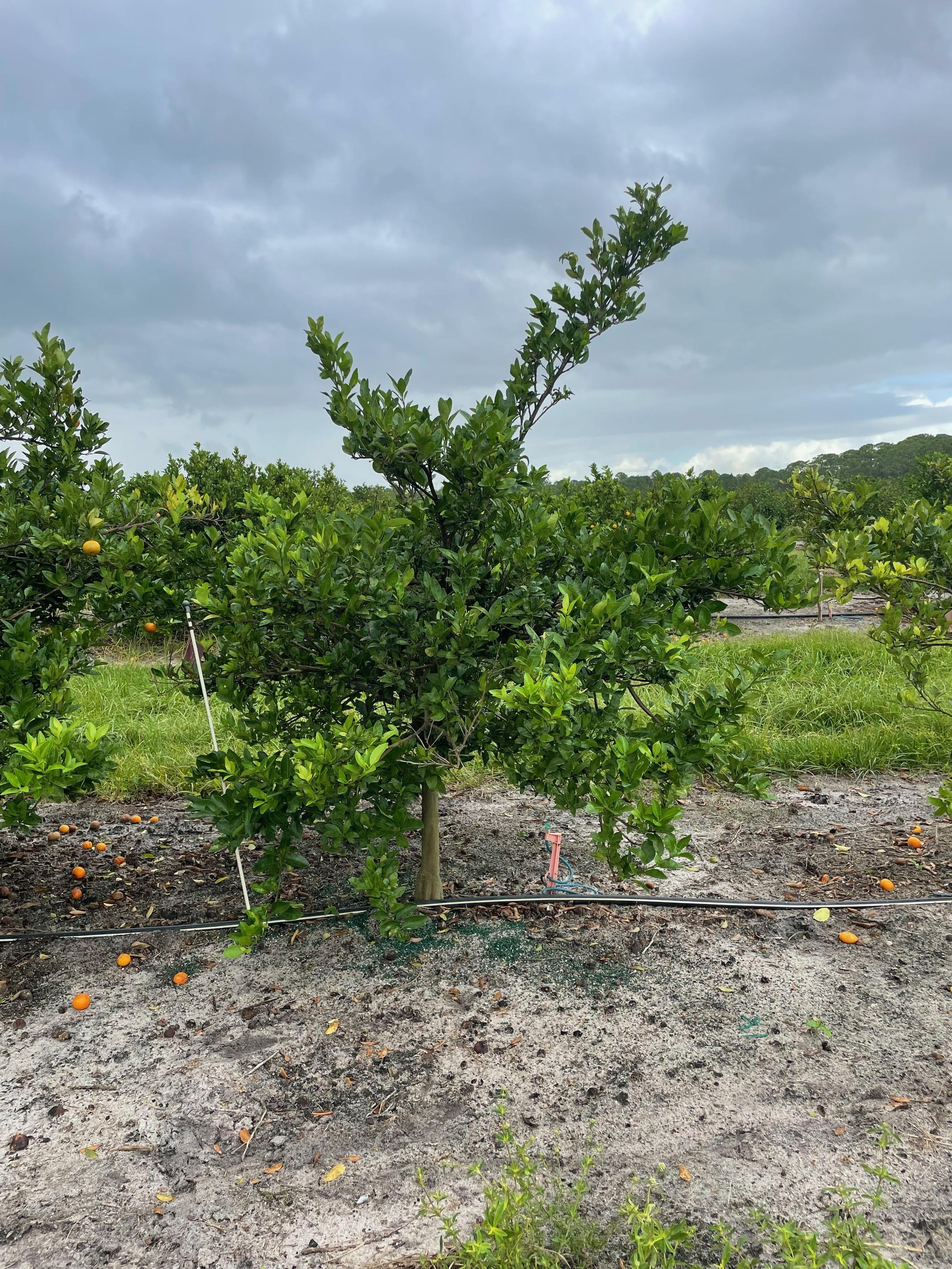fruit_on_ground: (81, 538, 103, 558), (64, 413, 81, 430), (143, 620, 158, 635)
fruit_on_tree: (70, 991, 92, 1012), (10, 1131, 32, 1151), (837, 928, 859, 945), (114, 951, 133, 968), (172, 968, 189, 986), (878, 876, 895, 891), (71, 865, 86, 880), (906, 834, 922, 848), (69, 886, 84, 900), (908, 822, 924, 835), (110, 889, 126, 901), (112, 853, 126, 866), (46, 830, 60, 842), (147, 813, 160, 825), (58, 822, 71, 834), (94, 842, 108, 853), (89, 819, 102, 830), (130, 813, 143, 823), (119, 813, 131, 823), (81, 839, 93, 849)
